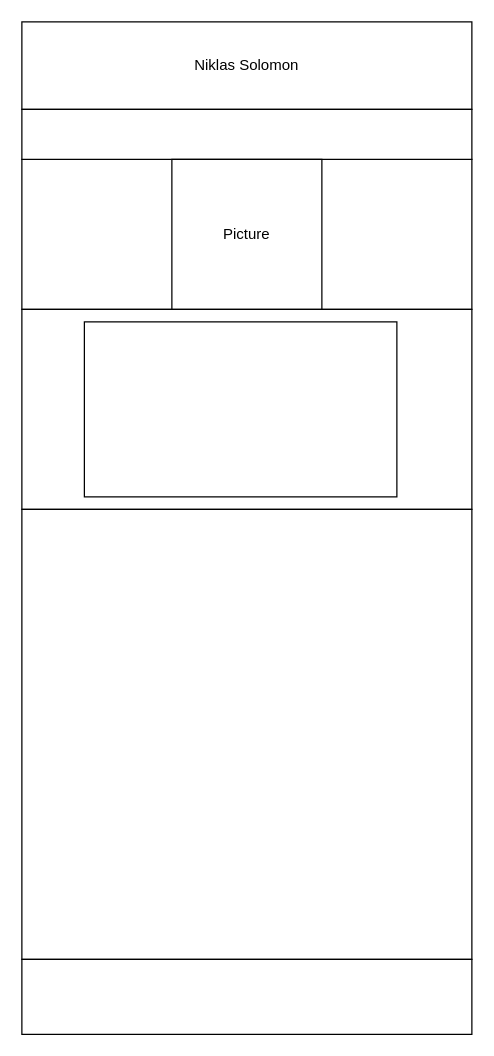
Image size: 494x1056. Some labels were removed from this diagram. Each missing label, with the centre of its shape:
"About Me Work Contact Me" belongs at (x=246, y=133).
"About Me: Paragraph I don't know" belongs at (x=240, y=409).
